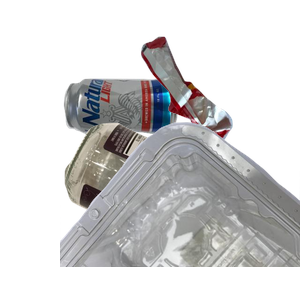glass: (62, 120, 300, 300)
metal: (61, 75, 231, 202)
plastic: (60, 120, 300, 300)
trash: (139, 34, 300, 167)
